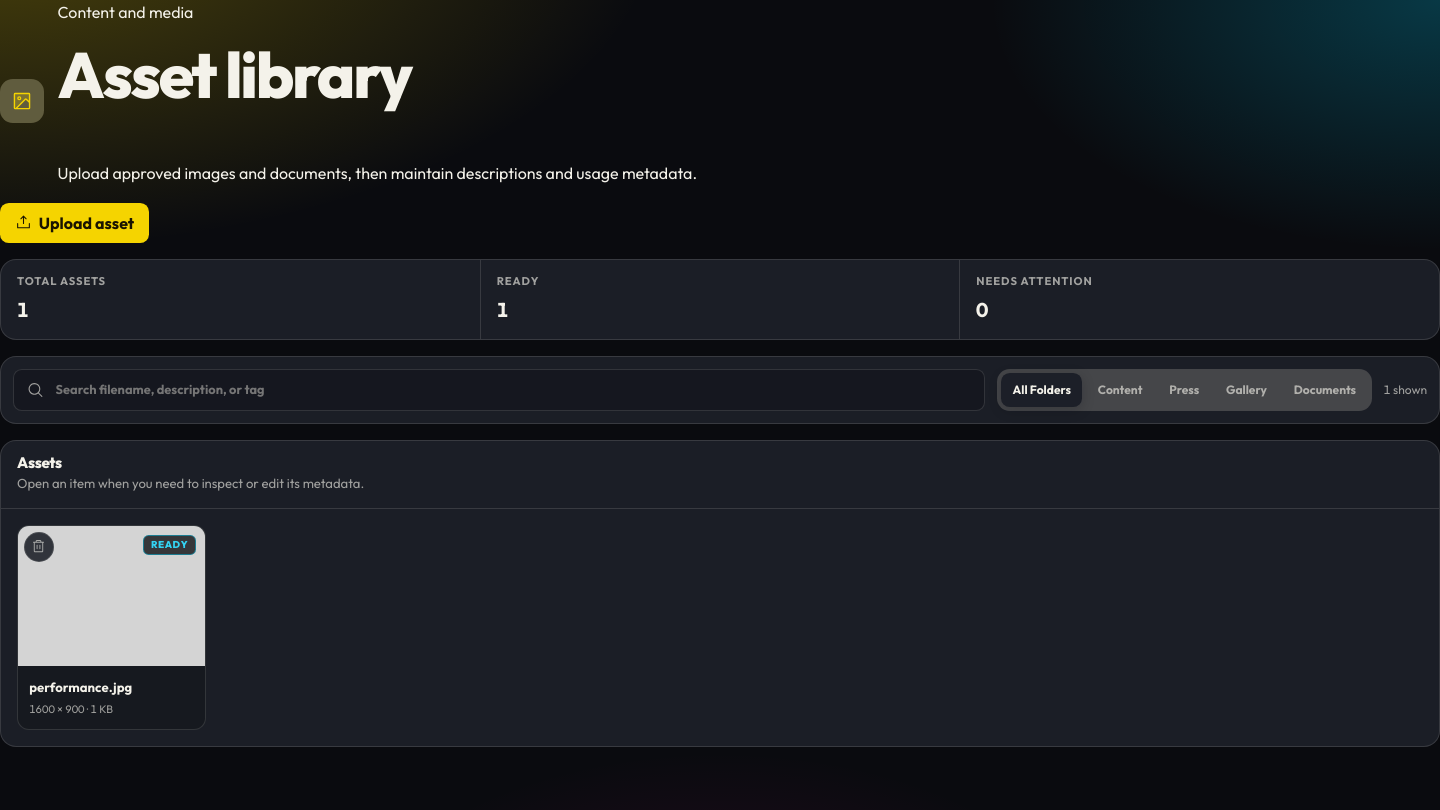
MediaLibrary › renders an accessible asset grid and prevents referenced deletion
Expected: the heading "Asset library" is shown, top-left (58, 34), bottom-right (411, 115)
Expected: the dialog "Asset details" is not shown
Click the button with aria-label "View performance.jpg".
click(112, 628)  # box top-left (17, 525), bottom-right (206, 730)
(page scrolled)
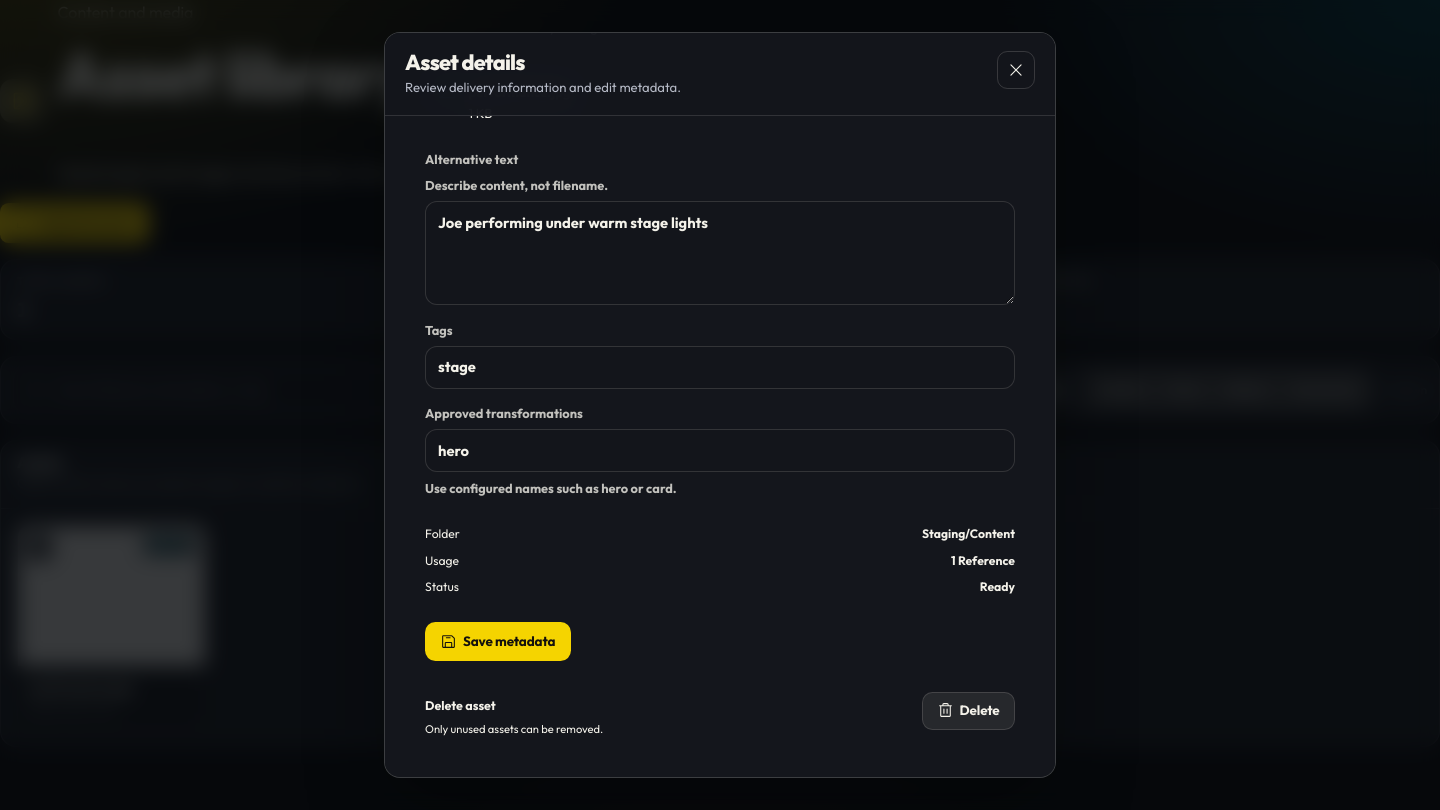
Click the button with aria-label "Delete asset".
click(968, 711)  # box top-left (922, 692), bottom-right (1015, 730)
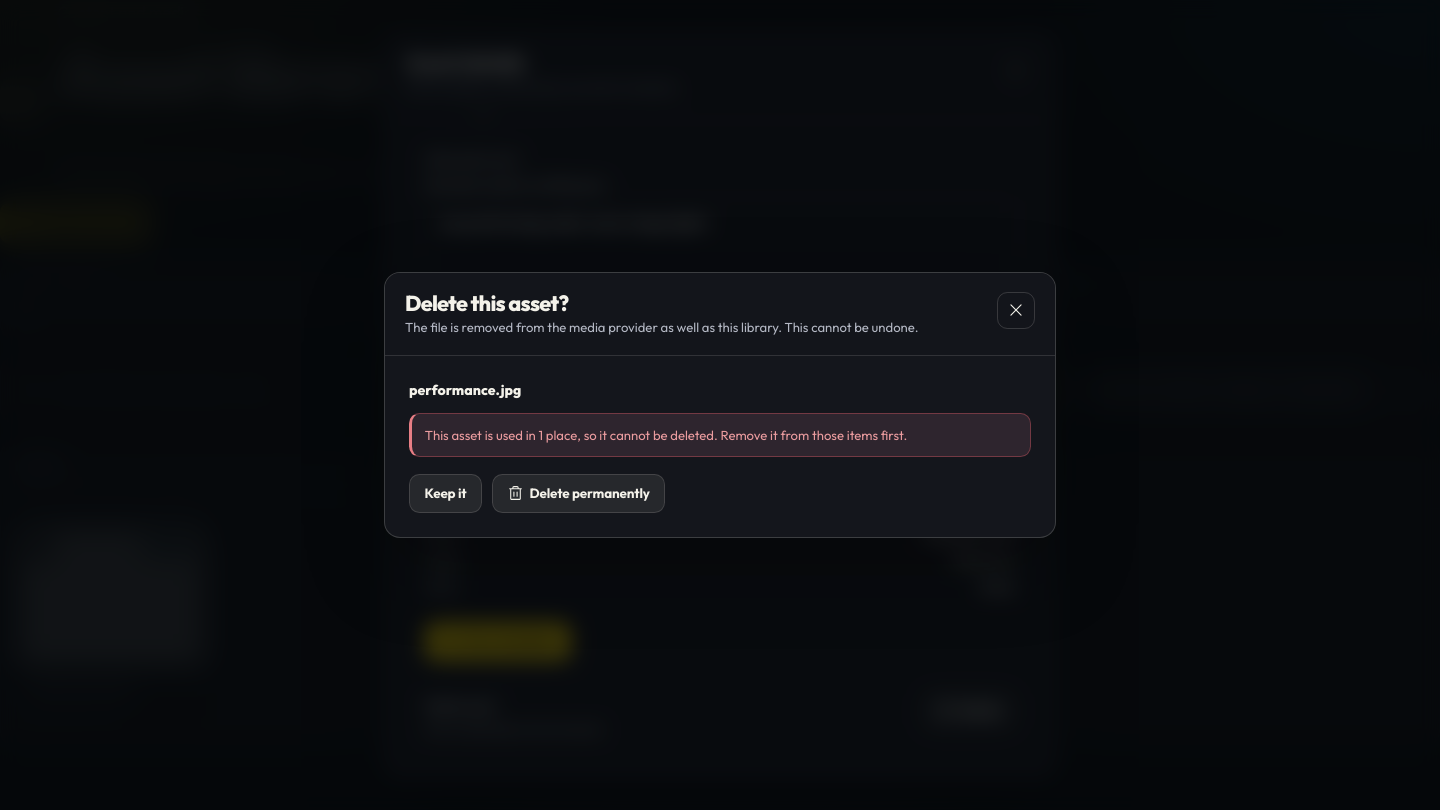
Now the message shows "used in 1 place", box top-left (409, 414), bottom-right (1031, 457)
Now the button "Delete permanently" is disabled, box top-left (492, 474), bottom-right (665, 513)
